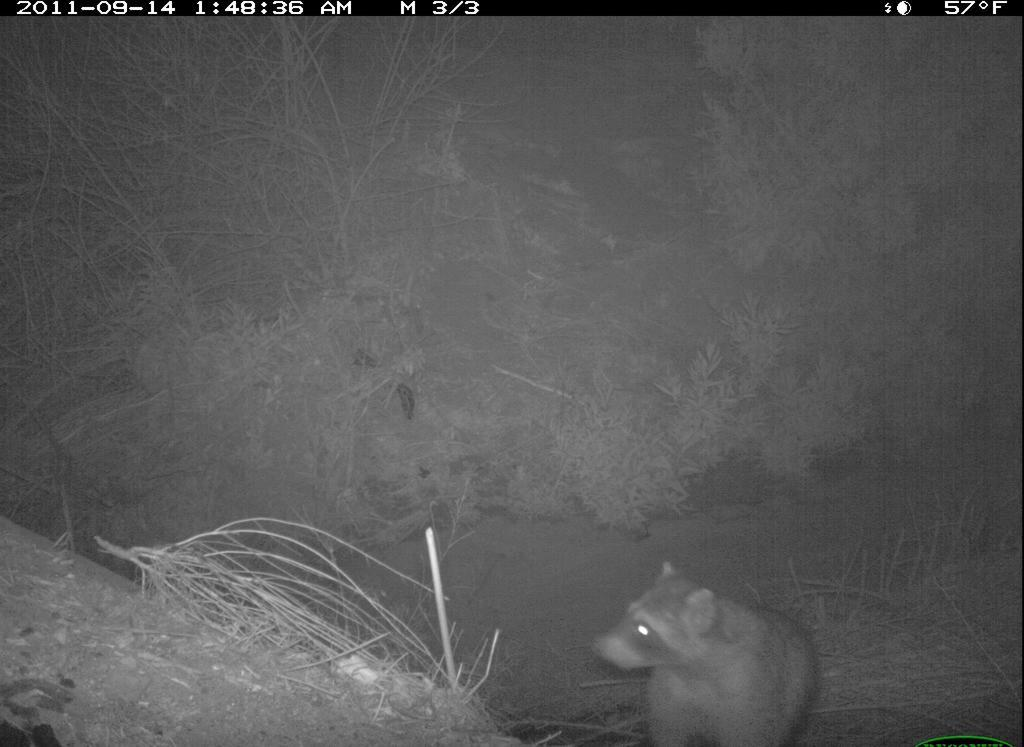raccoon: (585, 548, 831, 745)
